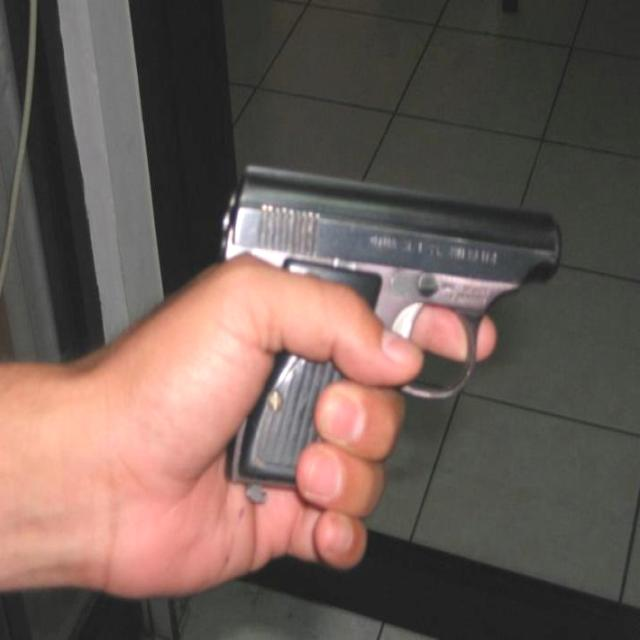pistol: (215, 158, 565, 490)
